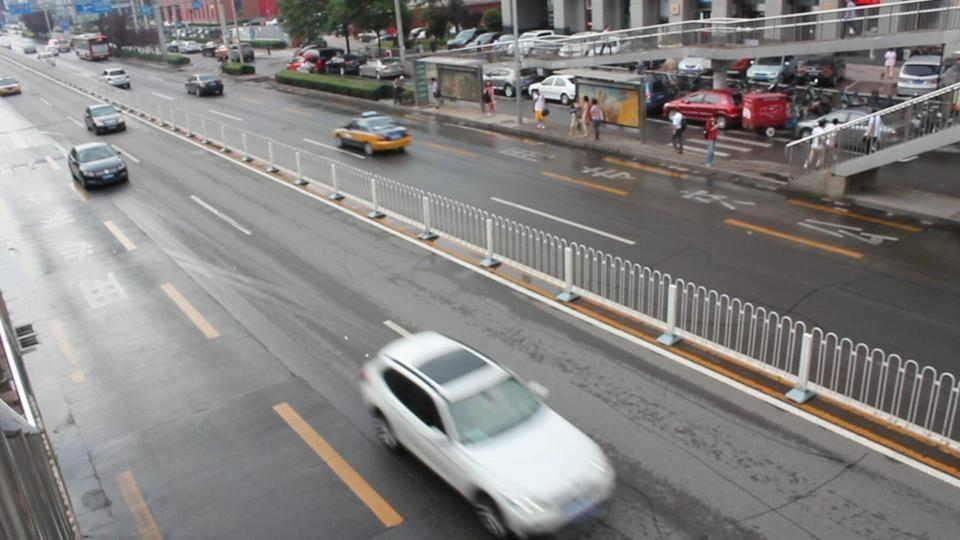car: (357, 320, 618, 538), (816, 111, 905, 155), (331, 113, 411, 156), (663, 89, 745, 127), (67, 142, 130, 189), (896, 54, 960, 97), (481, 66, 547, 99), (741, 53, 798, 89), (780, 55, 842, 88), (82, 103, 128, 136), (530, 76, 578, 105), (445, 29, 503, 51), (184, 74, 225, 97), (99, 67, 131, 89), (0, 77, 22, 97)
